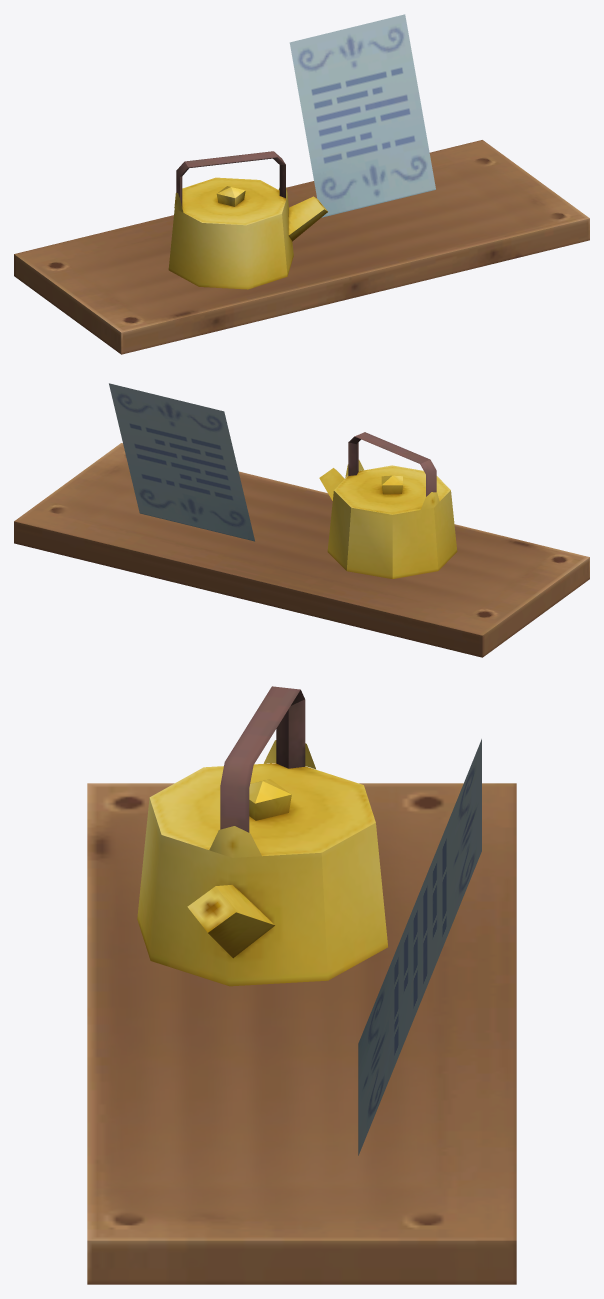
File: estanteriaConCosas_2.fbx
3 views of the same model, one above another, from view 1: azimuth 30°, elevation 25°; view 2: azimuth 150°, elevation 25°; view 3: azimuth 270°, elevation 25° (orthographic). The views are drawn at different scales.
Parts seen in each view (by area): view 1: s4studio_mesh_2; view 2: s4studio_mesh_2; view 3: s4studio_mesh_2.
Boxes of the visible parts, x1,y1,x2,y2 form: s4studio_mesh_2: [14, 14, 589, 354]; s4studio_mesh_2: [14, 383, 589, 657]; s4studio_mesh_2: [87, 686, 516, 1284].
Size of the model in its own units: 85.12 by 30.35 by 33.78.
1 material, 1 textured.
